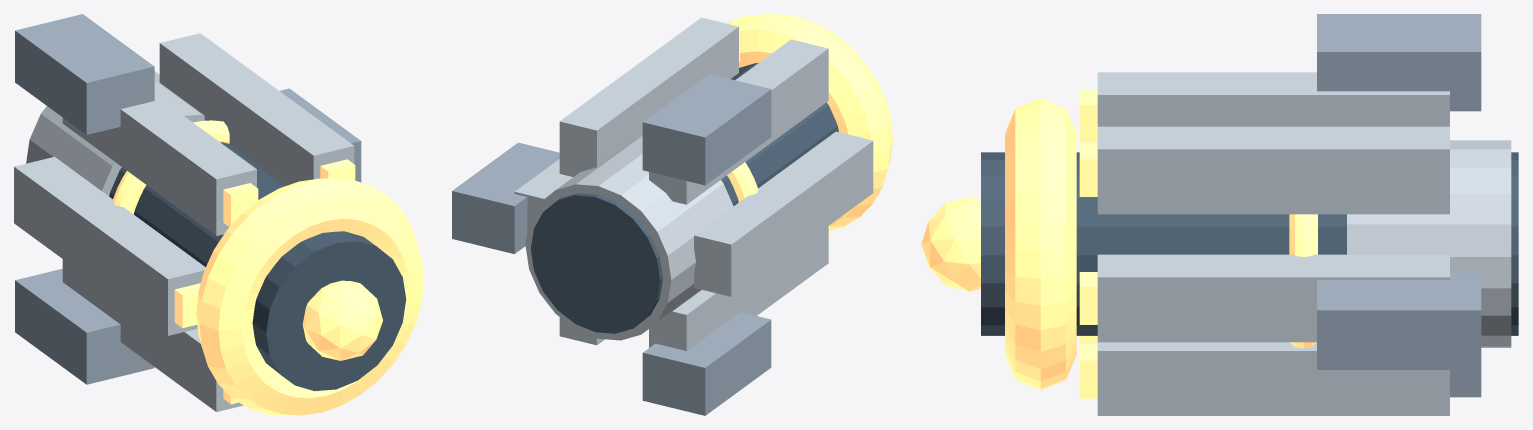
File: brasa.glb
The picture shows the model from 3 angles, left to right: view 1: azimuth 30°, elevation 25°; view 2: azimuth 150°, elevation 25°; view 3: azimuth 270°, elevation 25°; orthographic projection. The views are drawn at different scales.
Parts seen in each view (by area): view 1: Emitter3, Barrel0, ArmorFin11, ArmorFin7, JetPod18, ArmorFin9, JetPod19, ArmorFin13, Muzzle4, Housing1, Capacitor20, JetPod17 (+3 smaller); view 2: Barrel0, ArmorFin11, ArmorFin7, Housing1, JetPod18, Emitter3, JetPod19, JetPod17, ArmorFin9, ArmorFin13, ArmorFin5, Capacitor20 (+1 smaller); view 3: ArmorFin7, ArmorFin5, ArmorFin15, Emitter3, Barrel0, ArmorFin9, JetPod17, Housing1, JetPod18, Muzzle4, Capacitor20, Lumen10 (+4 smaller).
Boxes of the visible parts, box(x1,y1,x2,y2) form: Emitter3: box(196, 178, 423, 415); Barrel0: box(109, 142, 406, 390); ArmorFin11: box(14, 156, 205, 335); ArmorFin7: box(159, 33, 354, 185); JetPod18: box(15, 14, 154, 134); ArmorFin9: box(62, 95, 256, 235); JetPod19: box(15, 268, 154, 384); ArmorFin13: box(62, 259, 243, 411); Muzzle4: box(302, 280, 382, 360); Housing1: box(26, 71, 204, 196); Capacitor20: box(112, 120, 229, 214); JetPod17: box(280, 88, 361, 182); Barrel0: box(531, 63, 838, 333); ArmorFin11: box(694, 131, 873, 296); ArmorFin7: box(559, 17, 738, 176); Housing1: box(525, 136, 733, 340); JetPod18: box(642, 74, 771, 185); Emitter3: box(727, 14, 892, 230); JetPod19: box(642, 312, 771, 415); JetPod17: box(452, 142, 559, 253); ArmorFin9: box(649, 39, 828, 204); ArmorFin13: box(649, 226, 828, 350); ArmorFin5: box(514, 159, 572, 246); Capacitor20: box(727, 162, 758, 202); ArmorFin7: box(1097, 126, 1449, 214); ArmorFin5: box(1097, 254, 1449, 342); ArmorFin15: box(1097, 342, 1449, 415); Emitter3: box(1005, 98, 1076, 390); Barrel0: box(981, 152, 1518, 335); ArmorFin9: box(1097, 72, 1449, 126); JetPod17: box(1317, 272, 1481, 369); Housing1: box(1347, 140, 1511, 347); JetPod18: box(1317, 14, 1481, 111); Muzzle4: box(921, 197, 980, 291); Capacitor20: box(1289, 214, 1317, 348); Lumen10: box(1079, 89, 1097, 142).
Size of the model in its own units: 1.28 by 1.28 by 2.
